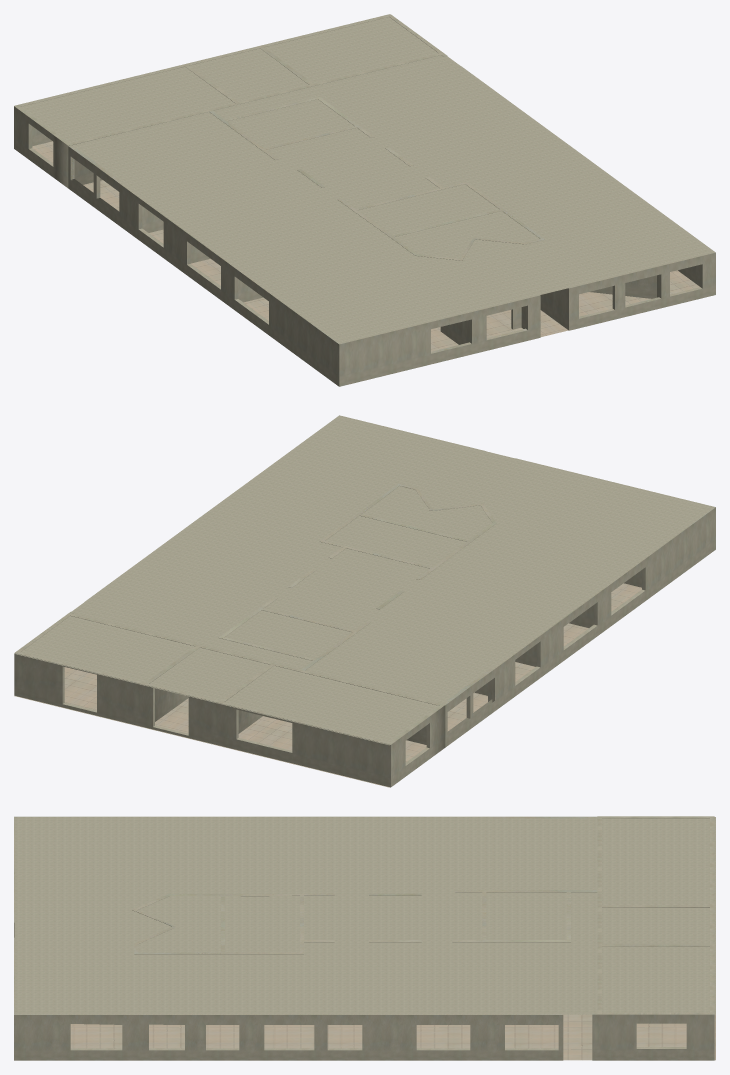
Rendered from walls-floor-roof-oculus.FBX.
3 renders of one model, top to bottom at view 1: azimuth 30°, elevation 25°; view 2: azimuth 150°, elevation 25°; view 3: azimuth 270°, elevation 25°, orthographic. The views are drawn at different scales.
Parts seen in each view (by area): view 1: Roof, Paredes LEFT, Paredes RIGHT, Paredes BACK, floor, Paredes INT; view 2: Roof, Paredes BACK, Paredes LEFT, floor, Paredes INT; view 3: Roof, Paredes RIGHT, floor, Paredes BACK, Paredes INT, Paredes LEFT.
Part boxes in pixels (x1,y1,x2,y2): Roof: [14, 14, 714, 343]; Paredes LEFT: [68, 146, 540, 386]; Paredes RIGHT: [461, 66, 715, 330]; Paredes BACK: [14, 14, 447, 187]; floor: [32, 141, 699, 351]; Paredes INT: [209, 96, 544, 260]; Roof: [14, 415, 714, 745]; Paredes BACK: [14, 611, 445, 787]; Paredes LEFT: [445, 458, 715, 747]; floor: [14, 583, 641, 787]; Paredes INT: [219, 484, 496, 670]; Roof: [14, 817, 715, 1014]; Paredes RIGHT: [14, 937, 563, 1060]; floor: [70, 1014, 715, 1060]; Paredes BACK: [592, 816, 714, 1060]; Paredes INT: [132, 890, 597, 954]; Paredes LEFT: [14, 816, 596, 937].
Size of the model in its own units: 28 by 3.03 by 41.94.
